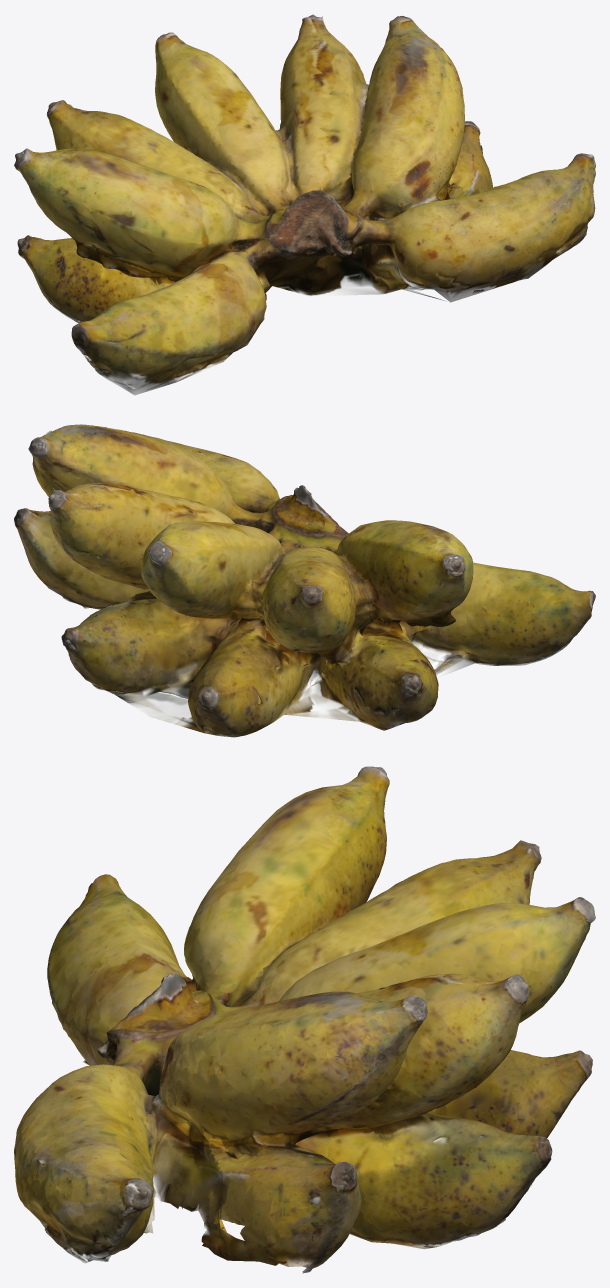
File: viet_nam_banana_bunch.glb
3 renders of one model, top to bottom at view 1: azimuth 30°, elevation 25°; view 2: azimuth 150°, elevation 25°; view 3: azimuth 270°, elevation 25°, orthographic. The views are drawn at different scales.
Visible parts, largest first — view 1: Nai Chuoi 1_0; view 2: Nai Chuoi 1_0; view 3: Nai Chuoi 1_0.
Boxes of the visible parts, bbox=[...] form: Nai Chuoi 1_0: bbox=[14, 14, 595, 395]; Nai Chuoi 1_0: bbox=[14, 424, 595, 737]; Nai Chuoi 1_0: bbox=[14, 766, 595, 1273].
Size of the model in its own units: 0.3098 by 0.1164 by 0.2068.
1 material, 1 textured.
